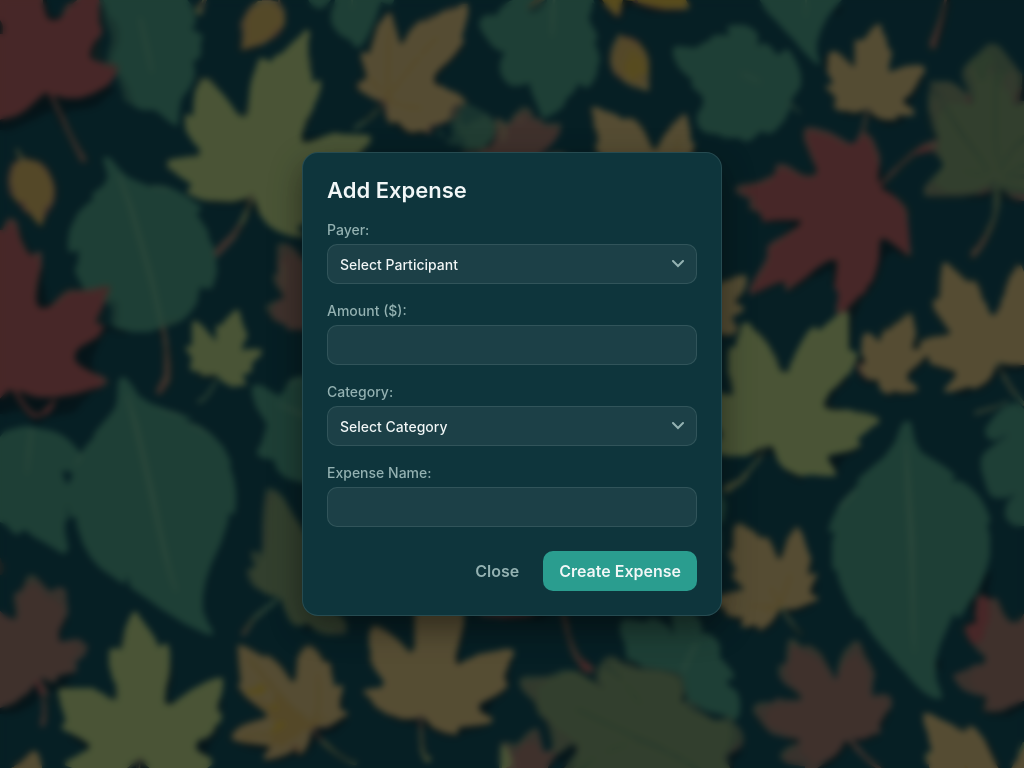
Test: AddExpense › rejects a zero amount with an inline error
Select "Alice" in the dropdown labelled "Payer:". click: point(512, 264)
box: [327,244,697,284]
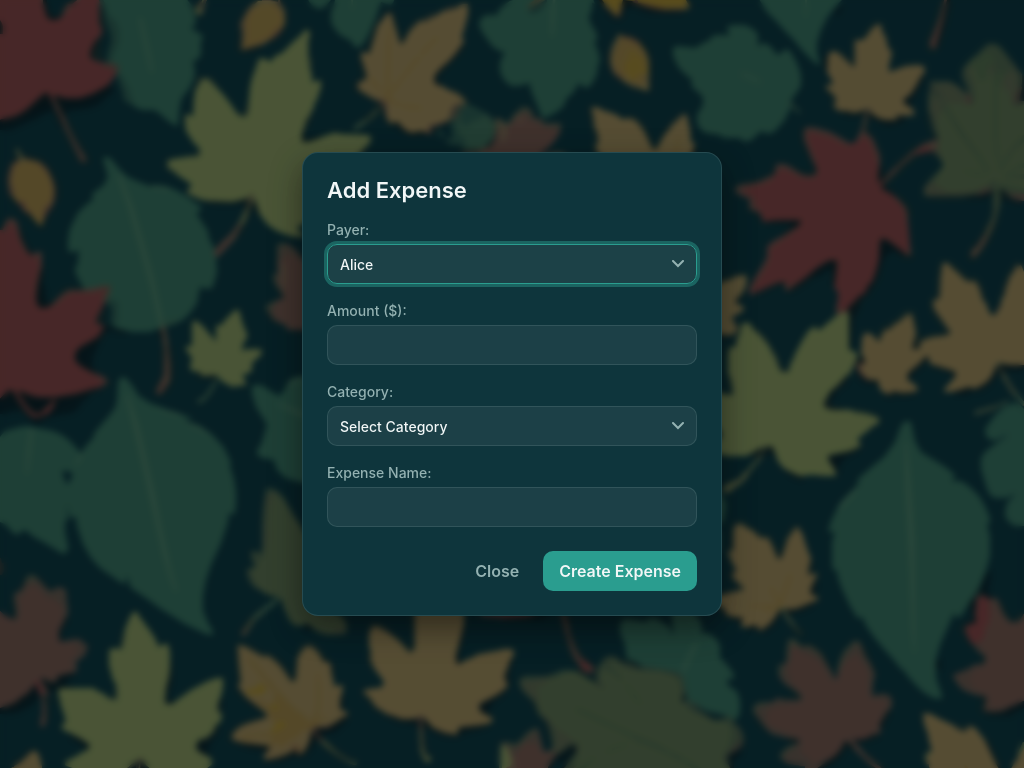
Type "0" into the number field labelled "Amount ($):". click: point(512, 345)
box: [327,325,697,365]
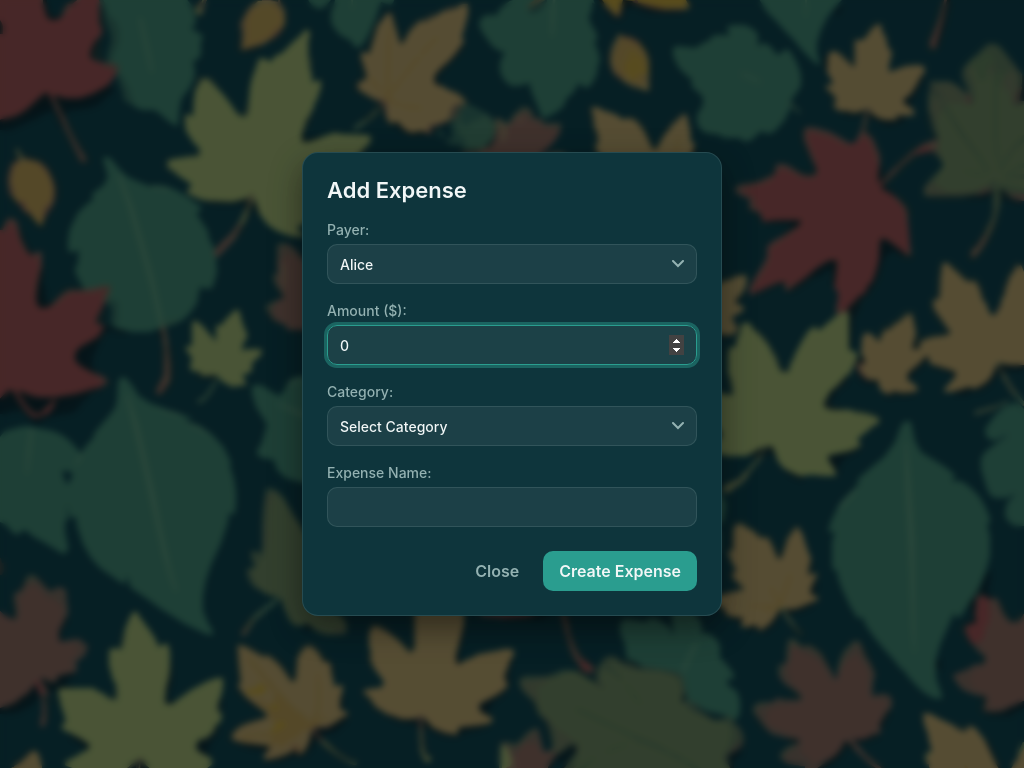
Select "Food" in the dropdown labelled "Category:". click: point(512, 426)
box: [327,406,697,446]
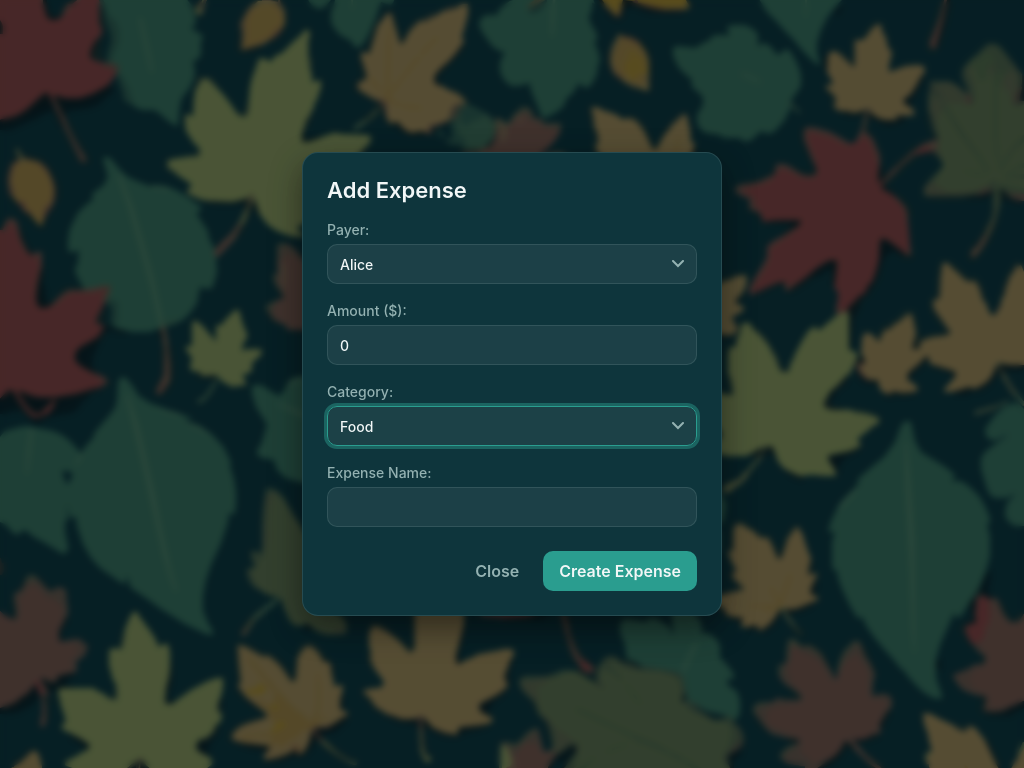
Type "Dinner" into the field labelled "Expense Name:". click: point(512, 507)
box: [327,487,697,527]
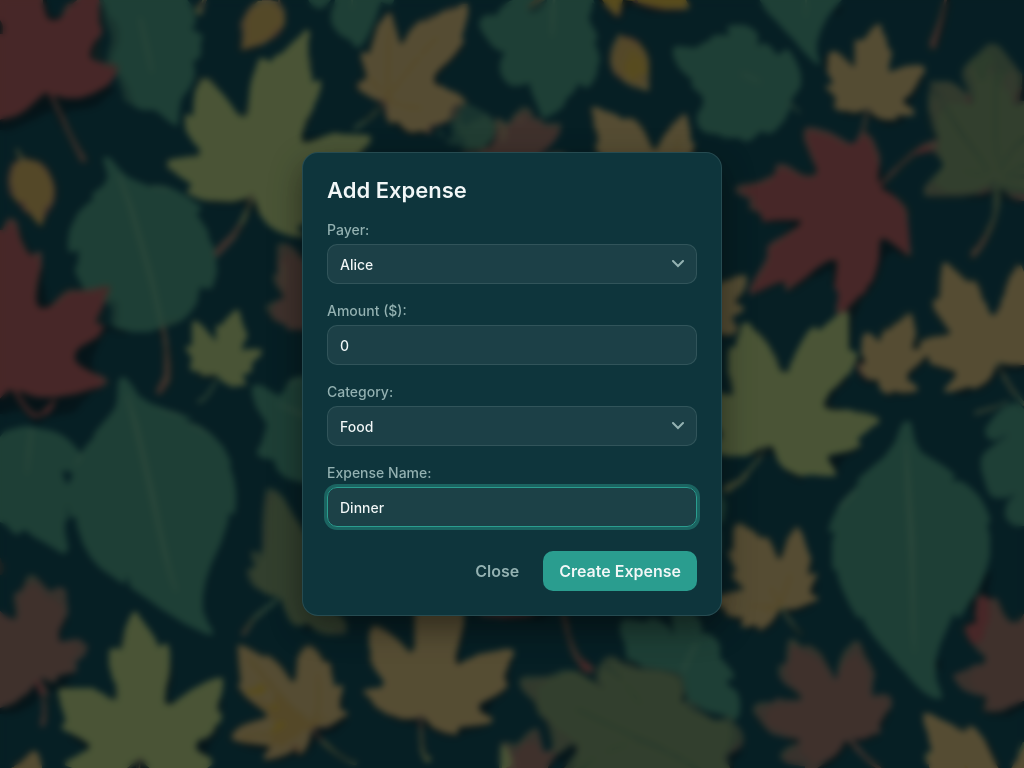
Click the button "Create Expense". click: point(620, 571)
box: [543,551,697,591]
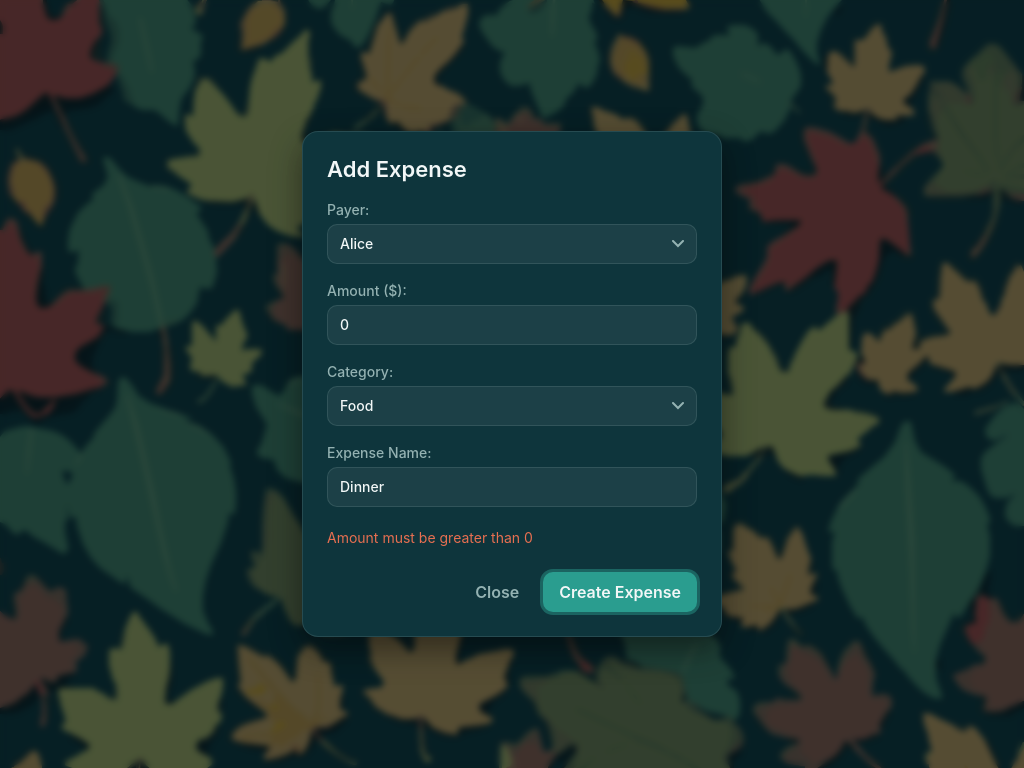
Now the text "Amount must be greater than 0" is shown, box [327,529,533,546]
